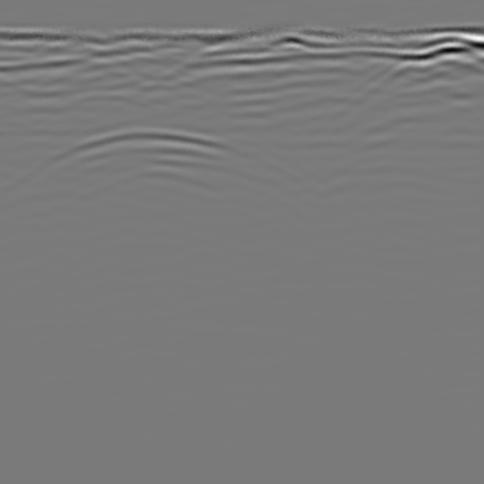hyperbola: (19, 119, 289, 224)
